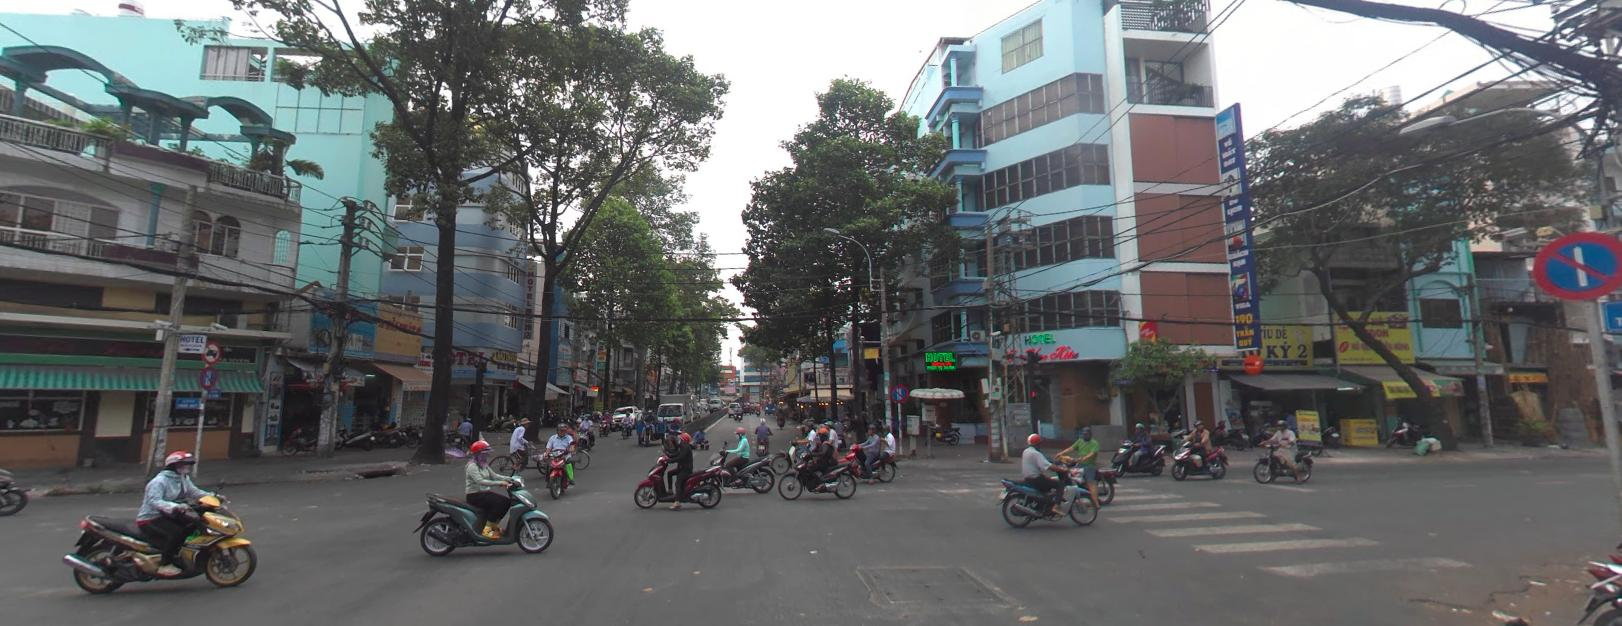Cam con lai: (202, 341, 220, 364)
Cam dung va do: (1531, 231, 1621, 298), (198, 365, 217, 387), (889, 381, 908, 401)
